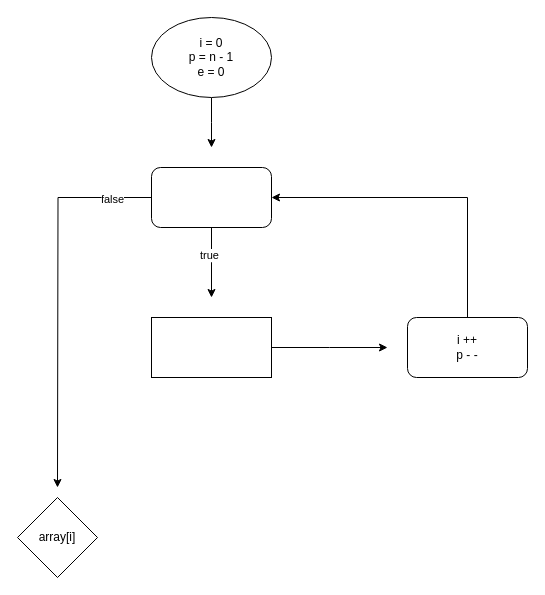
Image size: 545x595. Some labels were removed from this diagram. Here are the shapes that lost their labels. From the top down, the centre of each, then its label:
At point 211,197: "i < n/2".
At point 211,347: "e = array[i] array[i] = array[p] array[p] = e".
